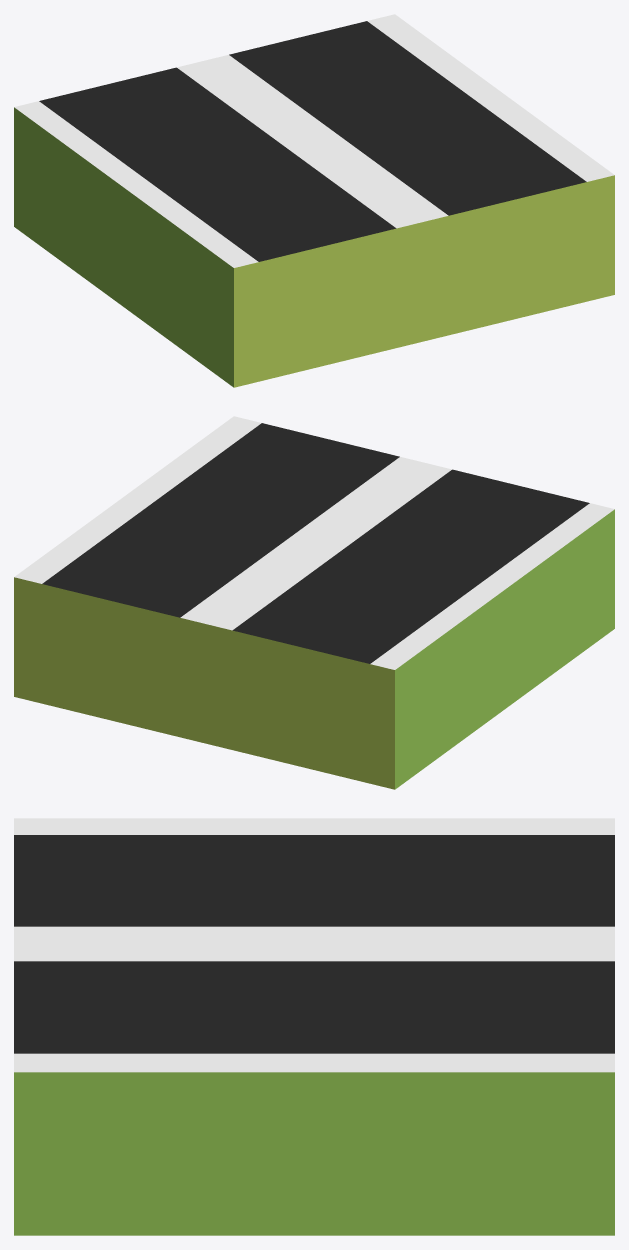
File: floor_crosswalk2.fbx
The picture shows the model from 3 angles, top to bottom: view 1: azimuth 30°, elevation 25°; view 2: azimuth 150°, elevation 25°; view 3: azimuth 270°, elevation 25°; orthographic projection. The views are drawn at different scales.
Parts seen in each view (by area): view 1: floor_crosswalk2; view 2: floor_crosswalk2; view 3: floor_crosswalk2.
Part boxes in pixels (left/top/right/bottom): floor_crosswalk2: left=14, top=14, right=614, bottom=387; floor_crosswalk2: left=14, top=416, right=614, bottom=789; floor_crosswalk2: left=14, top=818, right=614, bottom=1235.
Size of the model in its own units: 100 by 30 by 100.
